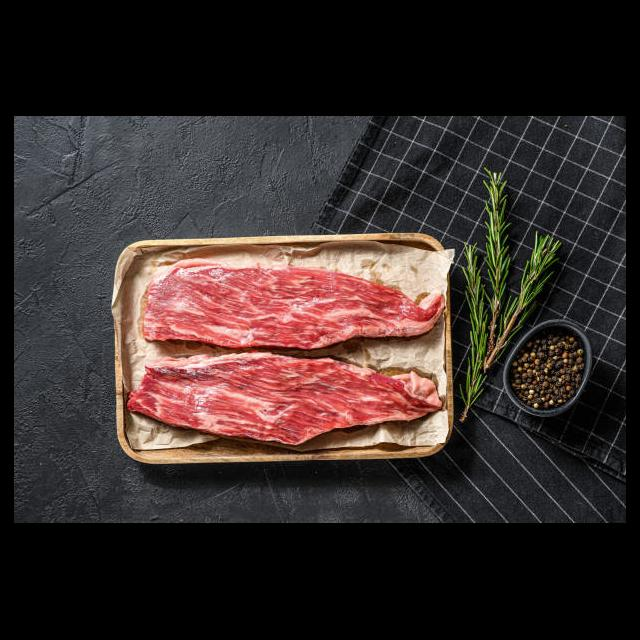beef: (130, 348, 445, 449), (141, 258, 444, 355)
